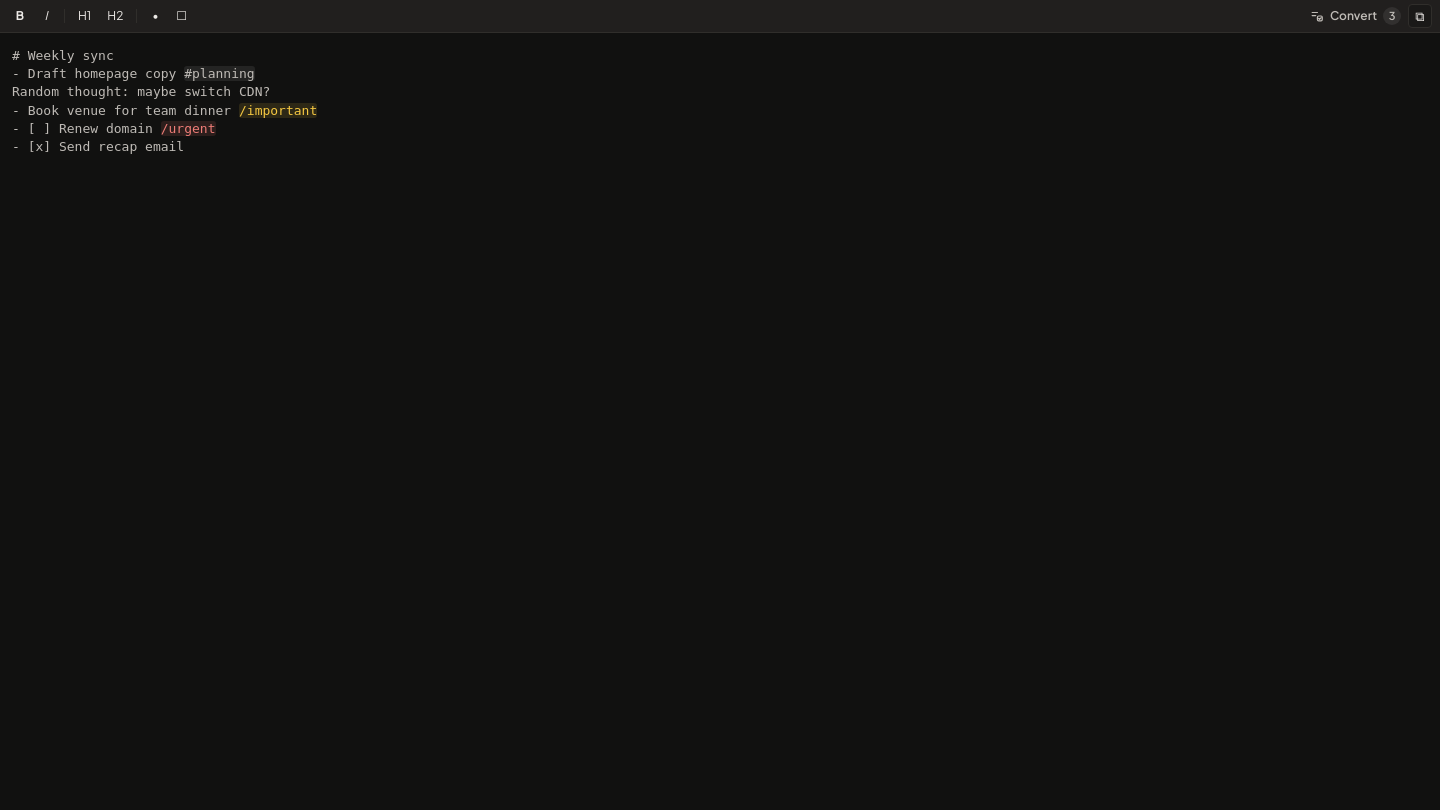
Test: Alt+T: one line through the task popup › opens the create popup prefilled from the line; Create task makes the task and marks the line
Press t in the field, box x1=12 y1=48 x2=317 y2=154
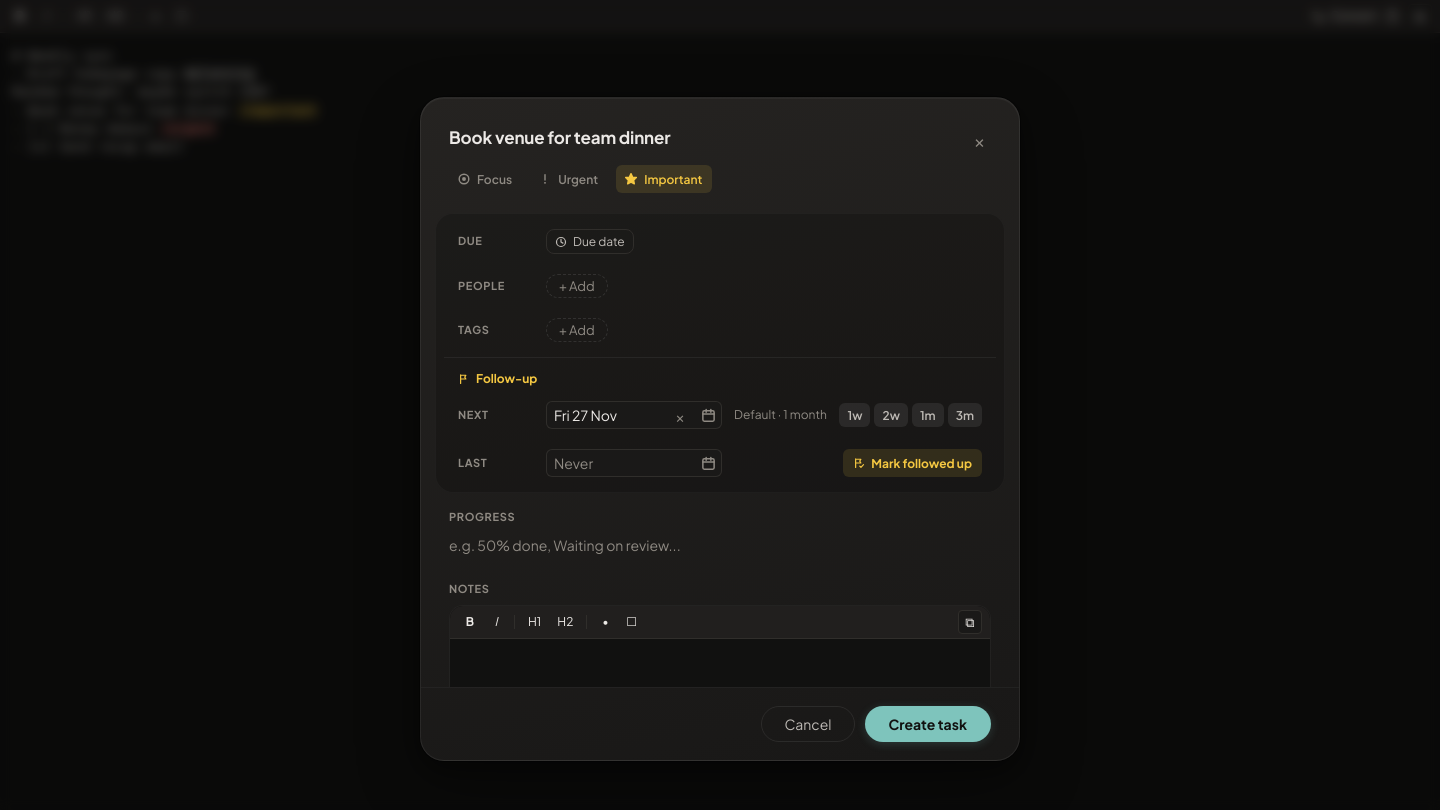
Expected: the 1st field showing "Book venue for team dinner" is shown, x1=449 y1=126 x2=956 y2=150
Click the button "Create task" at (928, 724), box x1=864 y1=706 x2=991 y2=742
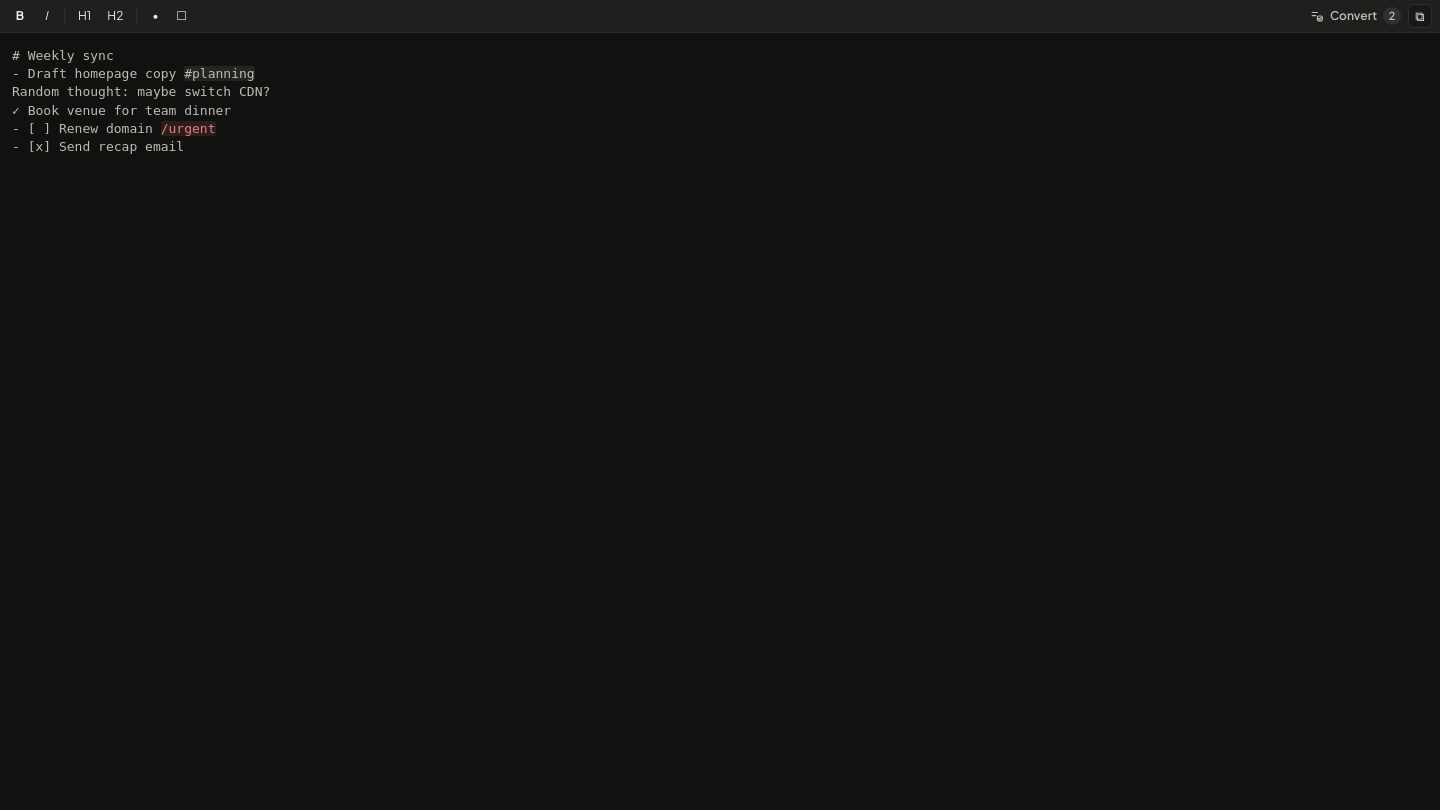
Expected: the text box labelled "✓ Book venue for team dinner" is shown, x1=12 y1=103 x2=231 y2=118
